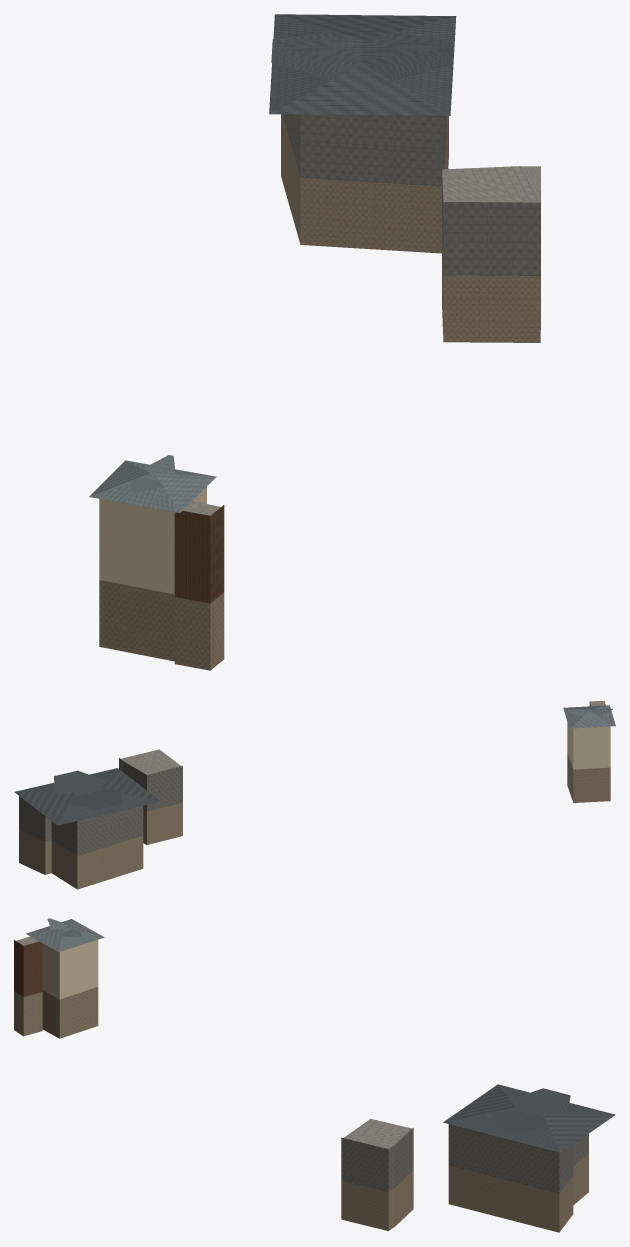
The model's file is bld_c31_-24_538.gltf.
3 renders of one model, top to bottom at view 1: azimuth 30°, elevation 25°; view 2: azimuth 150°, elevation 25°; view 3: azimuth 270°, elevation 25°, orthographic. The views are drawn at different scales.
Visible parts, largest first — view 1: bld_c31_-24_538; view 2: bld_c31_-24_538; view 3: bld_c31_-24_538.
Boxes of the visible parts, <box> form: bld_c31_-24_538: <box>89,14,540,670</box>; bld_c31_-24_538: <box>14,701,615,889</box>; bld_c31_-24_538: <box>14,918,615,1232</box>.
Size of the model in its own units: 62.54 by 14.8 by 71.01.
Materials: 9 (9 with a texture image).
